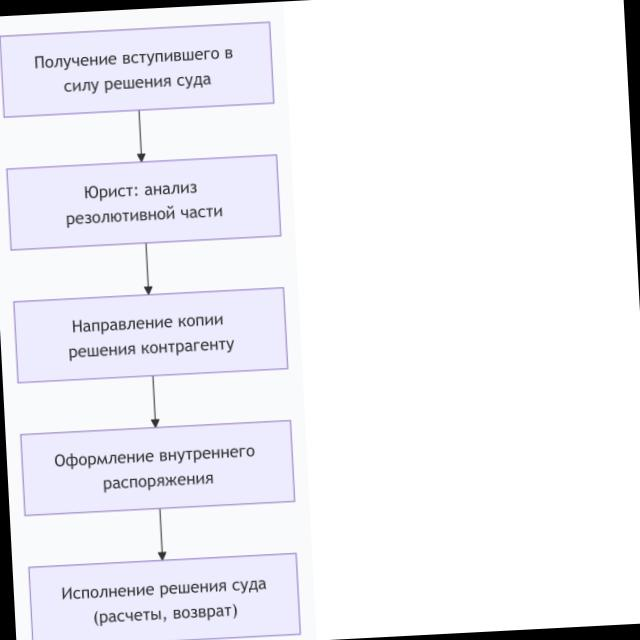arrow: (151, 376, 159, 427), (144, 244, 152, 294), (137, 111, 145, 161), (159, 509, 166, 560)
rectangle: (0, 22, 274, 118), (7, 155, 280, 250), (14, 288, 287, 382), (21, 421, 294, 515), (30, 554, 300, 639)
